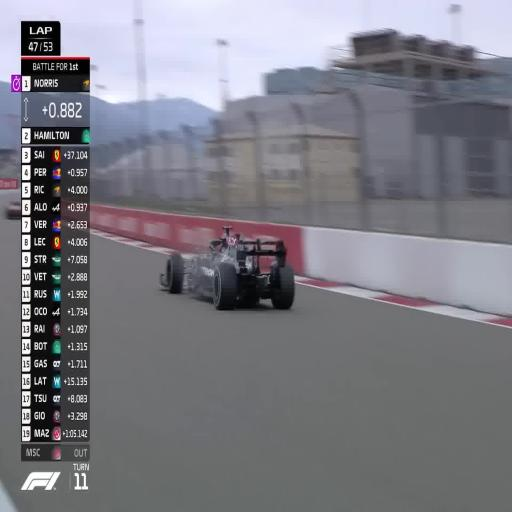f1_car: (160, 226, 294, 309), (4, 201, 22, 219)
